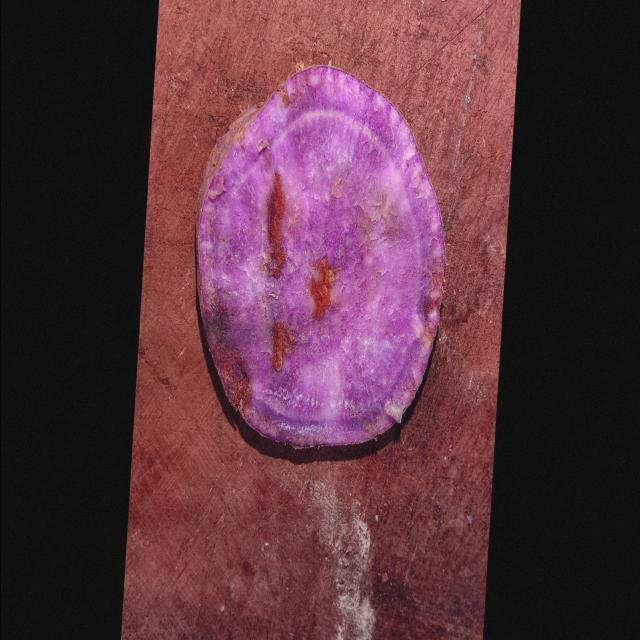Sick Sweet Potato_Tuber Rot: (196, 67, 444, 447)
